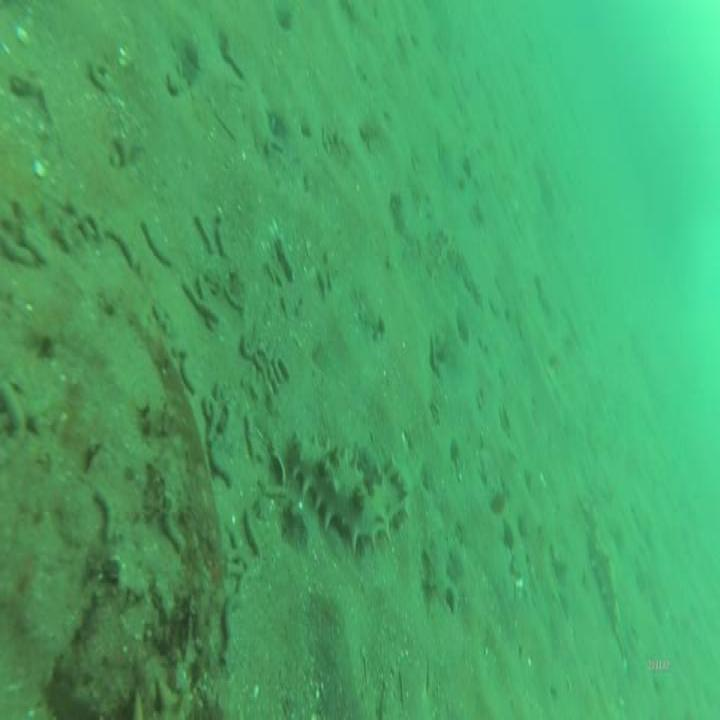holothurian: (287, 423, 411, 553)
